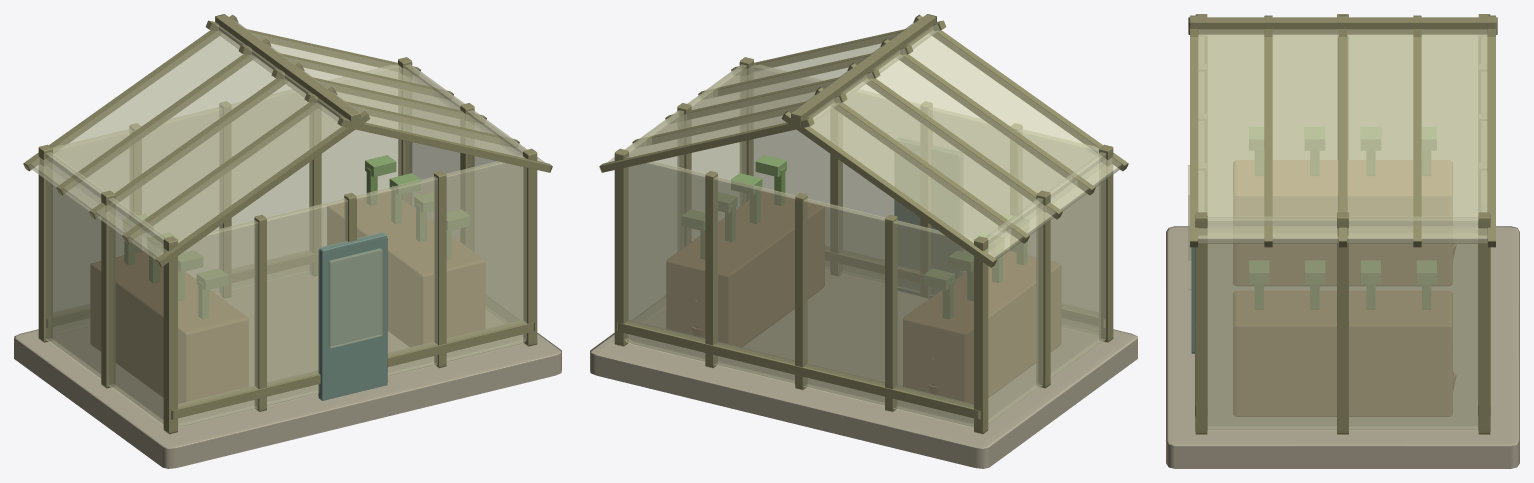
File: greenhouse-3.glb
The picture shows the model from 3 angles, left to right: view 1: azimuth 30°, elevation 25°; view 2: azimuth 150°, elevation 25°; view 3: azimuth 270°, elevation 25°; orthographic projection. The views are drawn at different scales.
Parts seen in each view (by area): view 1: greenhouse-3-0, vegetable-crops; view 2: greenhouse-3-0, vegetable-crops; view 3: greenhouse-3-0, vegetable-crops.
Boxes of the visible parts, <box> form: greenhouse-3-0: <box>14,14,561,468</box>; vegetable-crops: <box>124,155,469,319</box>; greenhouse-3-0: <box>590,14,1137,468</box>; vegetable-crops: <box>682,155,1027,319</box>; greenhouse-3-0: <box>1166,14,1519,468</box>; vegetable-crops: <box>1249,127,1436,309</box>.
Bounding box in the file's own units: 2.8 × 2.01 × 1.9.
